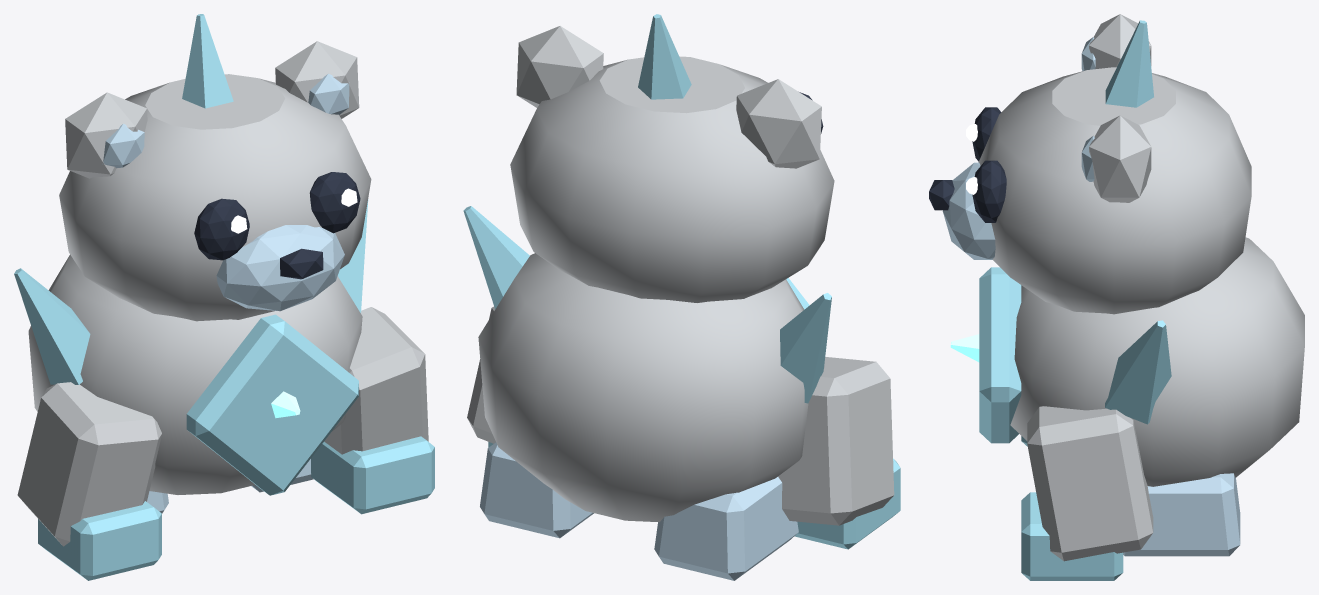
The model's file is PermafrostBear.glb.
The picture shows the model from 3 angles, left to right: view 1: azimuth 30°, elevation 25°; view 2: azimuth 150°, elevation 25°; view 3: azimuth 270°, elevation 25°; orthographic projection. The views are drawn at different scales.
Visible parts, largest first — view 1: PermafrostBear; view 2: PermafrostBear; view 3: PermafrostBear.
Part boxes in pixels (x1,y1,x2,y2): PermafrostBear: [14, 14, 434, 580]; PermafrostBear: [463, 14, 900, 580]; PermafrostBear: [929, 14, 1304, 580].
Bounding box in the file's own units: 2.85 × 3.52 × 2.51.
